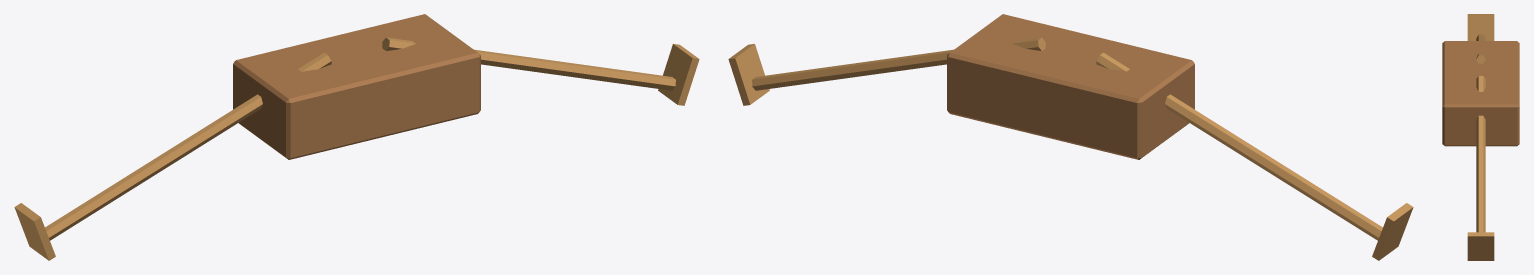
File: OarBench.fbx
3 views of the same model, side by side, from view 1: azimuth 30°, elevation 25°; view 2: azimuth 150°, elevation 25°; view 3: azimuth 270°, elevation 25° (orthographic). The views are drawn at different scales.
Visible parts, largest first — view 1: OarBench; view 2: OarBench; view 3: OarBench.
Part boxes in pixels (x1,y1,x2,y2): OarBench: (14, 14, 699, 260); OarBench: (728, 14, 1413, 260); OarBench: (1442, 14, 1519, 260).
Bounding box in the file's own units: 13.65 × 2.55 × 2.
Materials: 1 (1 with a texture image).
